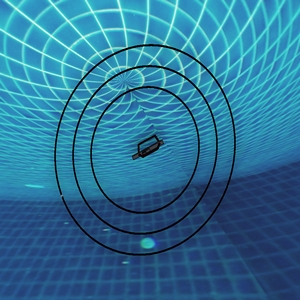submarine: (133, 133, 163, 159)
